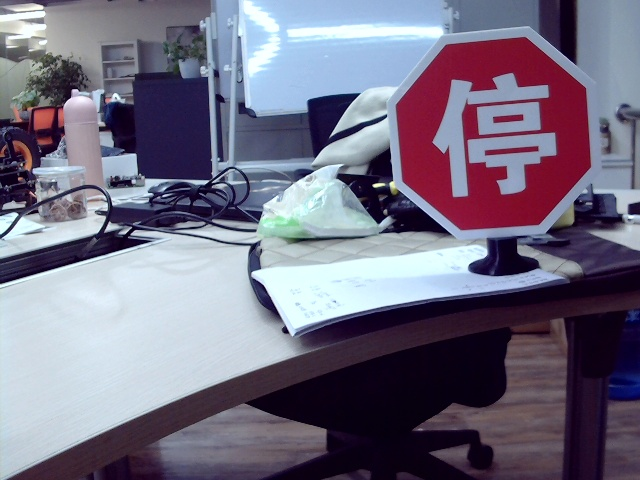stop: (430, 71, 561, 194)
